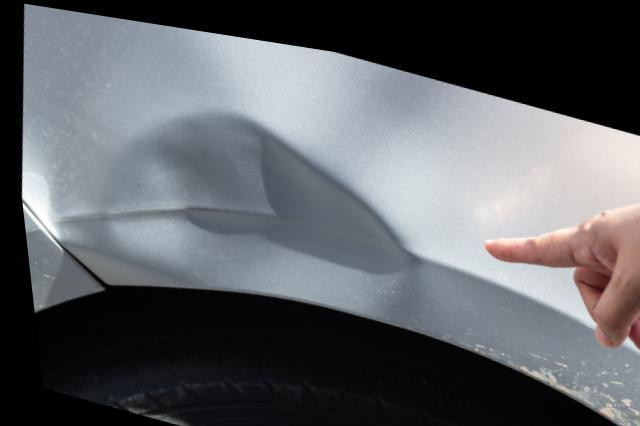dent: (98, 102, 415, 311)
scratch: (446, 312, 640, 426)
